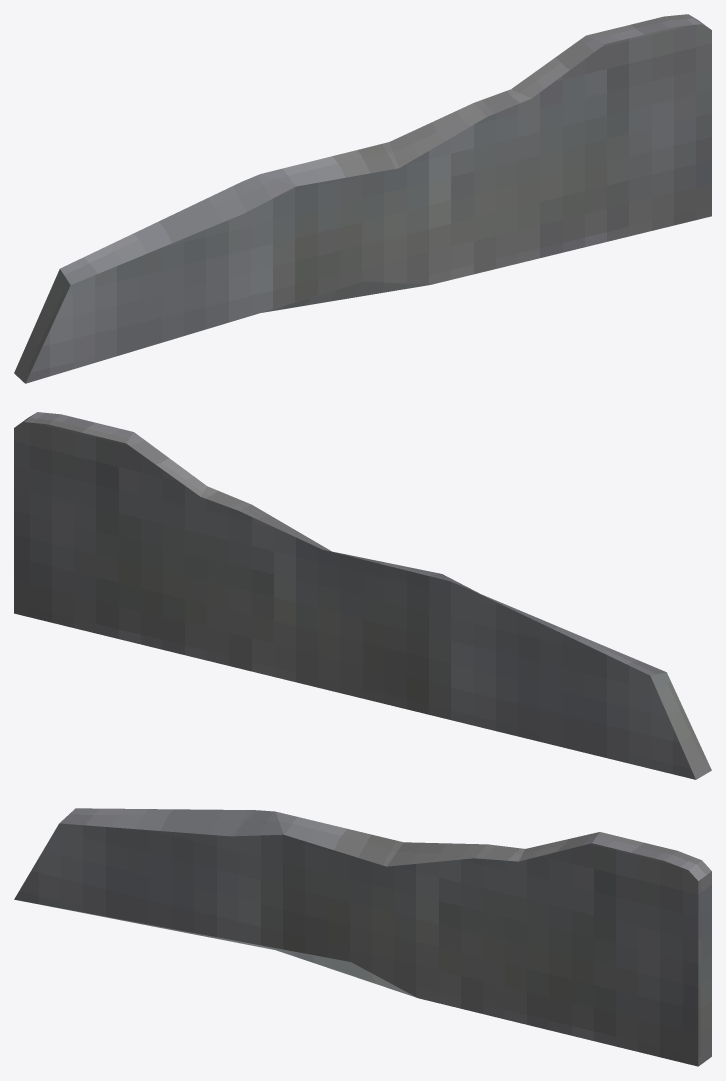
File: plackard_slab_boken.glb
3 views of the same model, one above another, from view 1: azimuth 30°, elevation 25°; view 2: azimuth 150°, elevation 25°; view 3: azimuth 330°, elevation 25° (orthographic).
Visible parts, largest first — view 1: plackard_slab_boken; view 2: plackard_slab_boken; view 3: plackard_slab_boken.
Boxes of the visible parts, <box> form: plackard_slab_boken: <box>14,14,711,383</box>; plackard_slab_boken: <box>14,412,711,779</box>; plackard_slab_boken: <box>14,808,711,1066</box>.
Size of the model in its own units: 2.9 by 0.8 by 0.1.
Materials: 1 (1 with a texture image).
